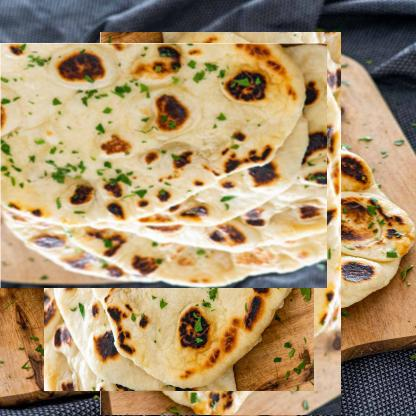naan: (63, 70, 379, 385), (31, 82, 327, 378), (0, 43, 327, 288)
